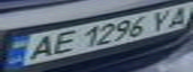1: (78, 24, 100, 49)
2: (97, 20, 118, 46)
6: (127, 14, 154, 38)
9: (112, 17, 136, 42)
A: (21, 33, 60, 62), (160, 3, 193, 29)
E: (45, 28, 81, 56)
Y: (145, 8, 178, 33)
